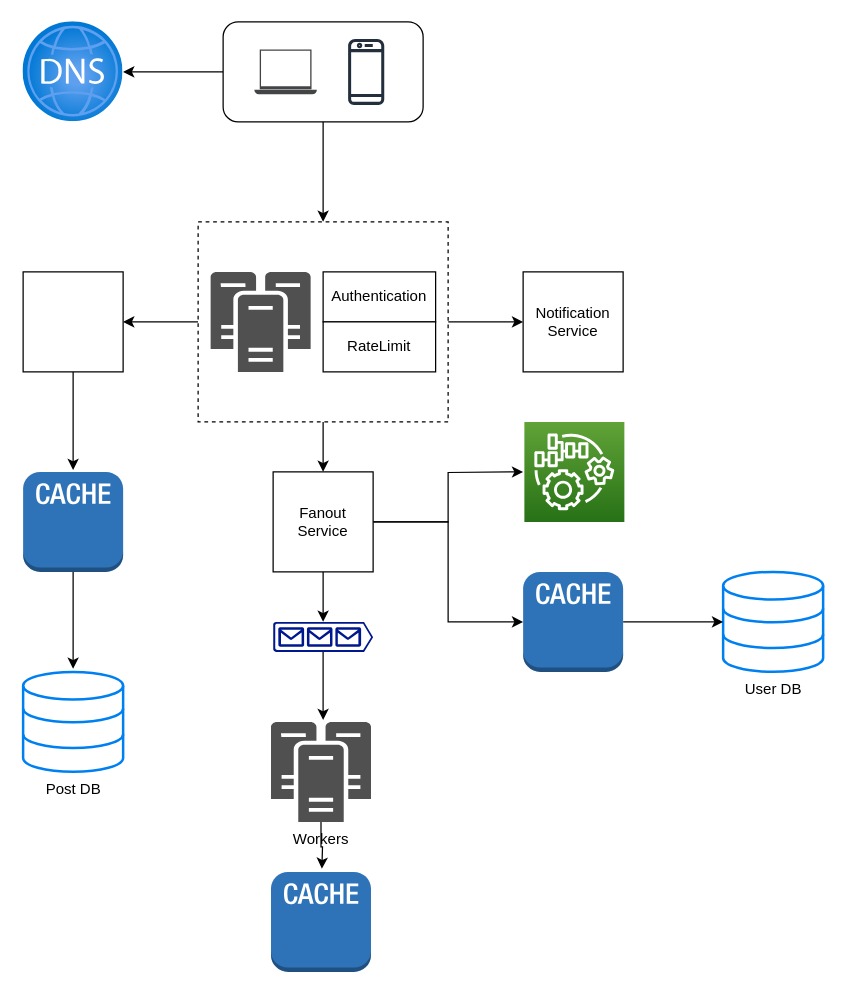
Some shapes in this 845 by 994 pixel diagram are drawn without their labels. Here are the shapes that lost their labels. From the top down, the centre of each, then its label:
At (72,321): "Post Service".
At (260,321): "Web Servers".
At (573,471): "GraphDB(Neo4j)".
At (322,636): "Message Queue".
